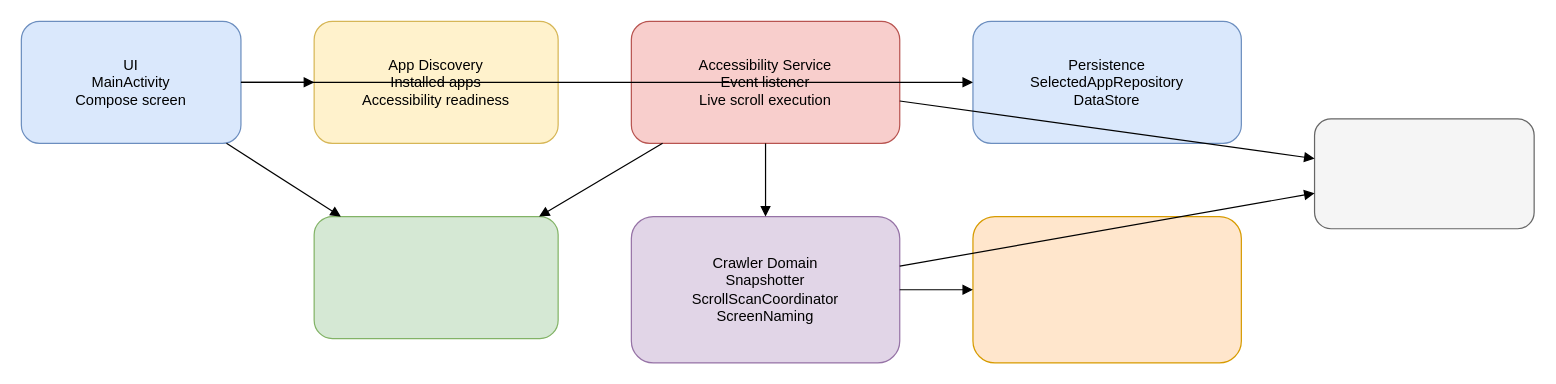
This 1556x384 diagram has some shape labels left out. The box of each missing label's shape, as (x1, y1, x2, y2) in pixels:
Crawler Session Request lifecycle UI state flow: (313, 215, 558, 339)
Diagnostics DiagnosticLogger: (1313, 118, 1534, 229)
Export Layer HtmlRenderer AccessibilityXmlSerializer CaptureFileStore: (972, 215, 1241, 363)
